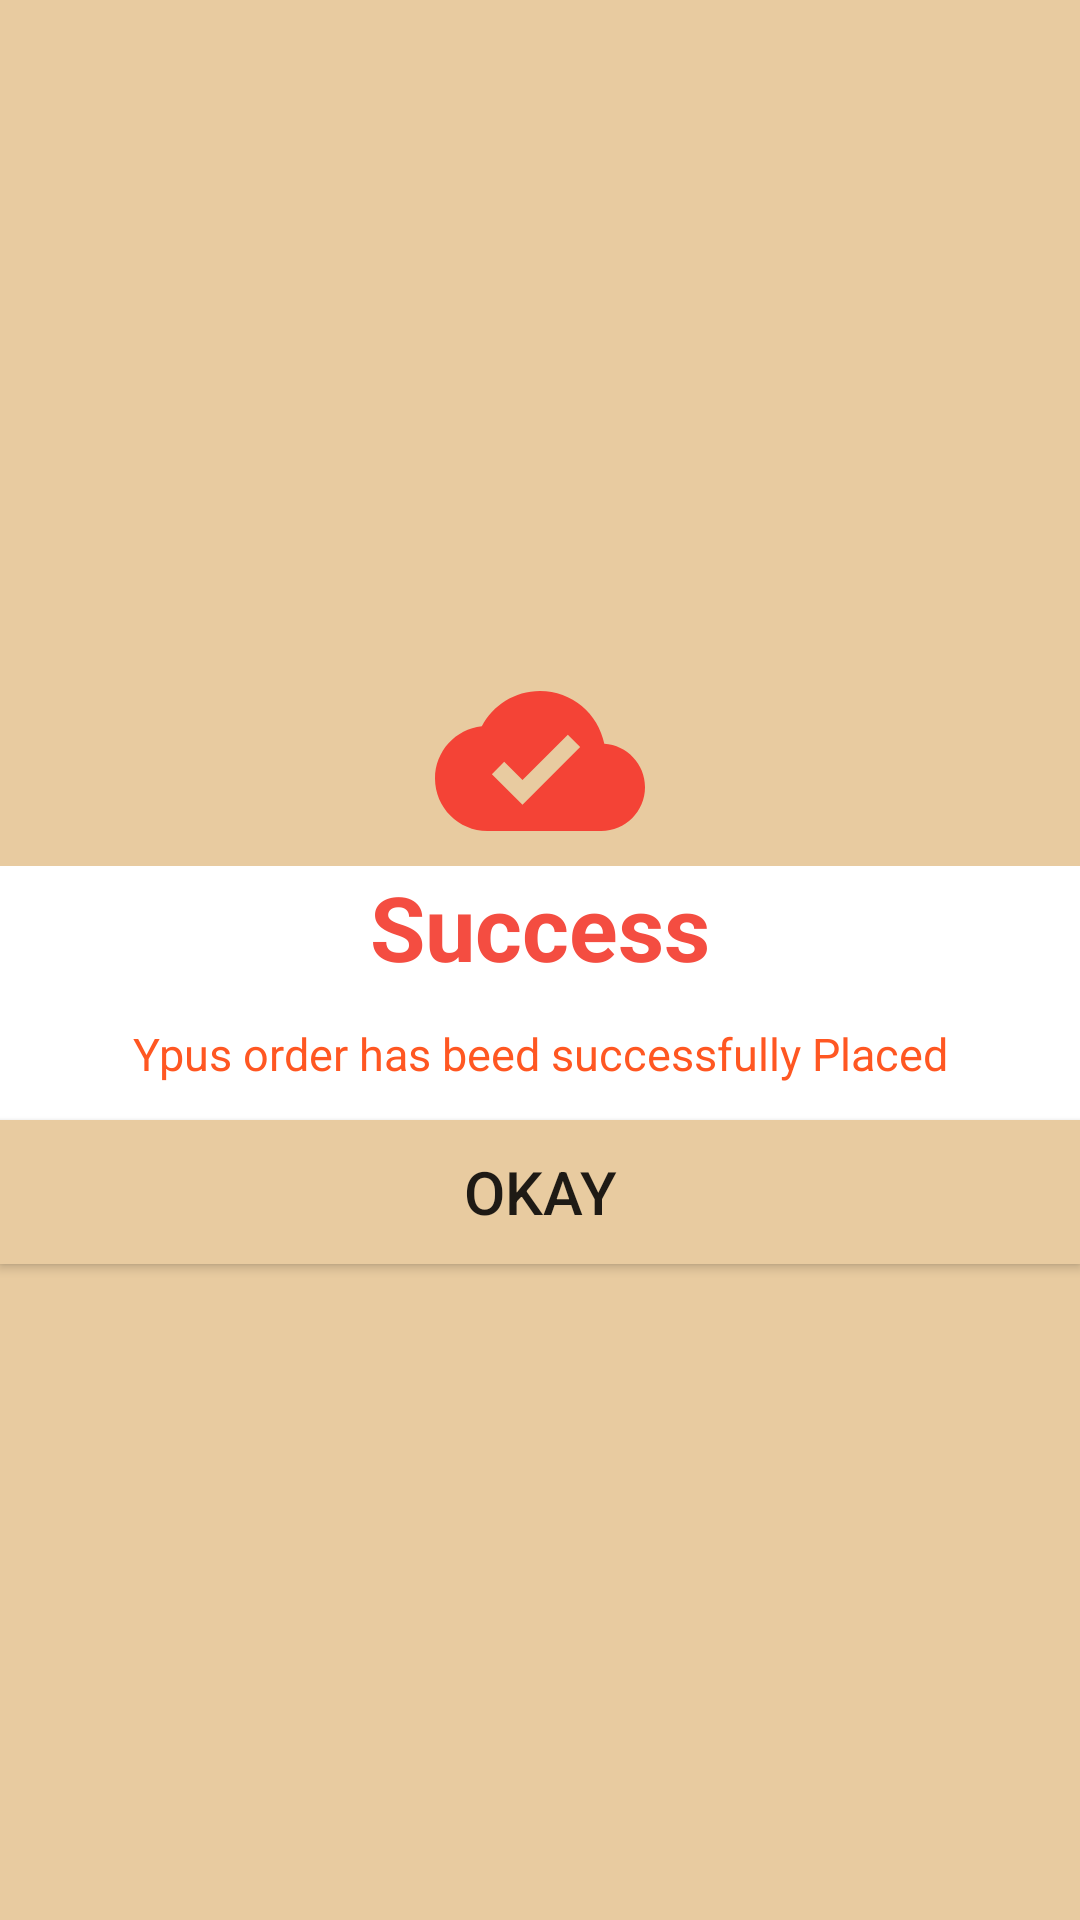

Named icons in this screenshot (1080px x 1920px) and their centers, (x,y):
cloud done: (540,761)
